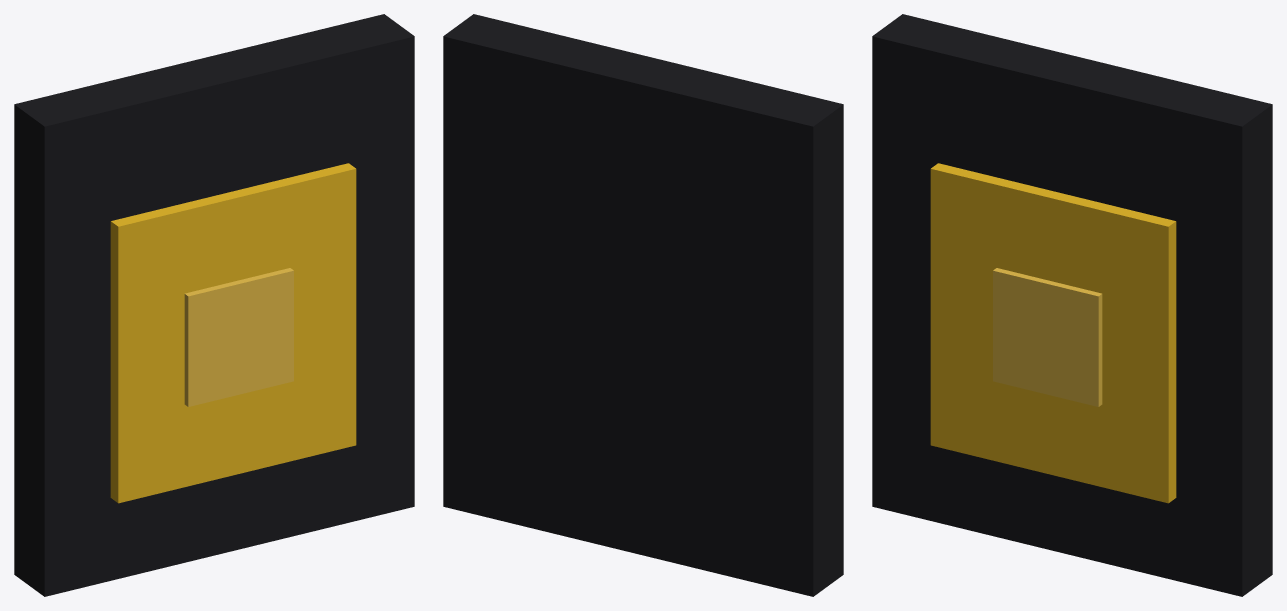
The model's file is badge_wallet.glb.
3 views of the same model, side by side, from view 1: azimuth 30°, elevation 25°; view 2: azimuth 150°, elevation 25°; view 3: azimuth 330°, elevation 25° (orthographic).
Parts seen in each view (by area): view 1: badge_wallet; view 2: badge_wallet; view 3: badge_wallet.
Boxes of the visible parts, left/top/right/bottom form: badge_wallet: left=14, top=14, right=414, bottom=596; badge_wallet: left=443, top=14, right=843, bottom=596; badge_wallet: left=872, top=14, right=1272, bottom=596.
Bounding box in the file's own units: 0.14 × 0.17 × 0.0275.
1 material, 1 textured.
